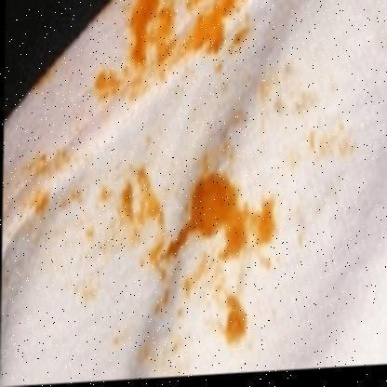kimchi: (21, 146, 112, 215), (165, 180, 247, 255), (201, 98, 250, 179), (113, 164, 160, 235), (125, 318, 189, 368), (103, 57, 182, 97), (81, 213, 112, 298), (177, 260, 223, 312), (190, 0, 233, 54), (243, 196, 283, 248), (223, 296, 259, 345), (128, 0, 159, 54), (306, 119, 352, 152), (259, 70, 299, 105), (164, 0, 181, 54), (154, 287, 174, 320)
